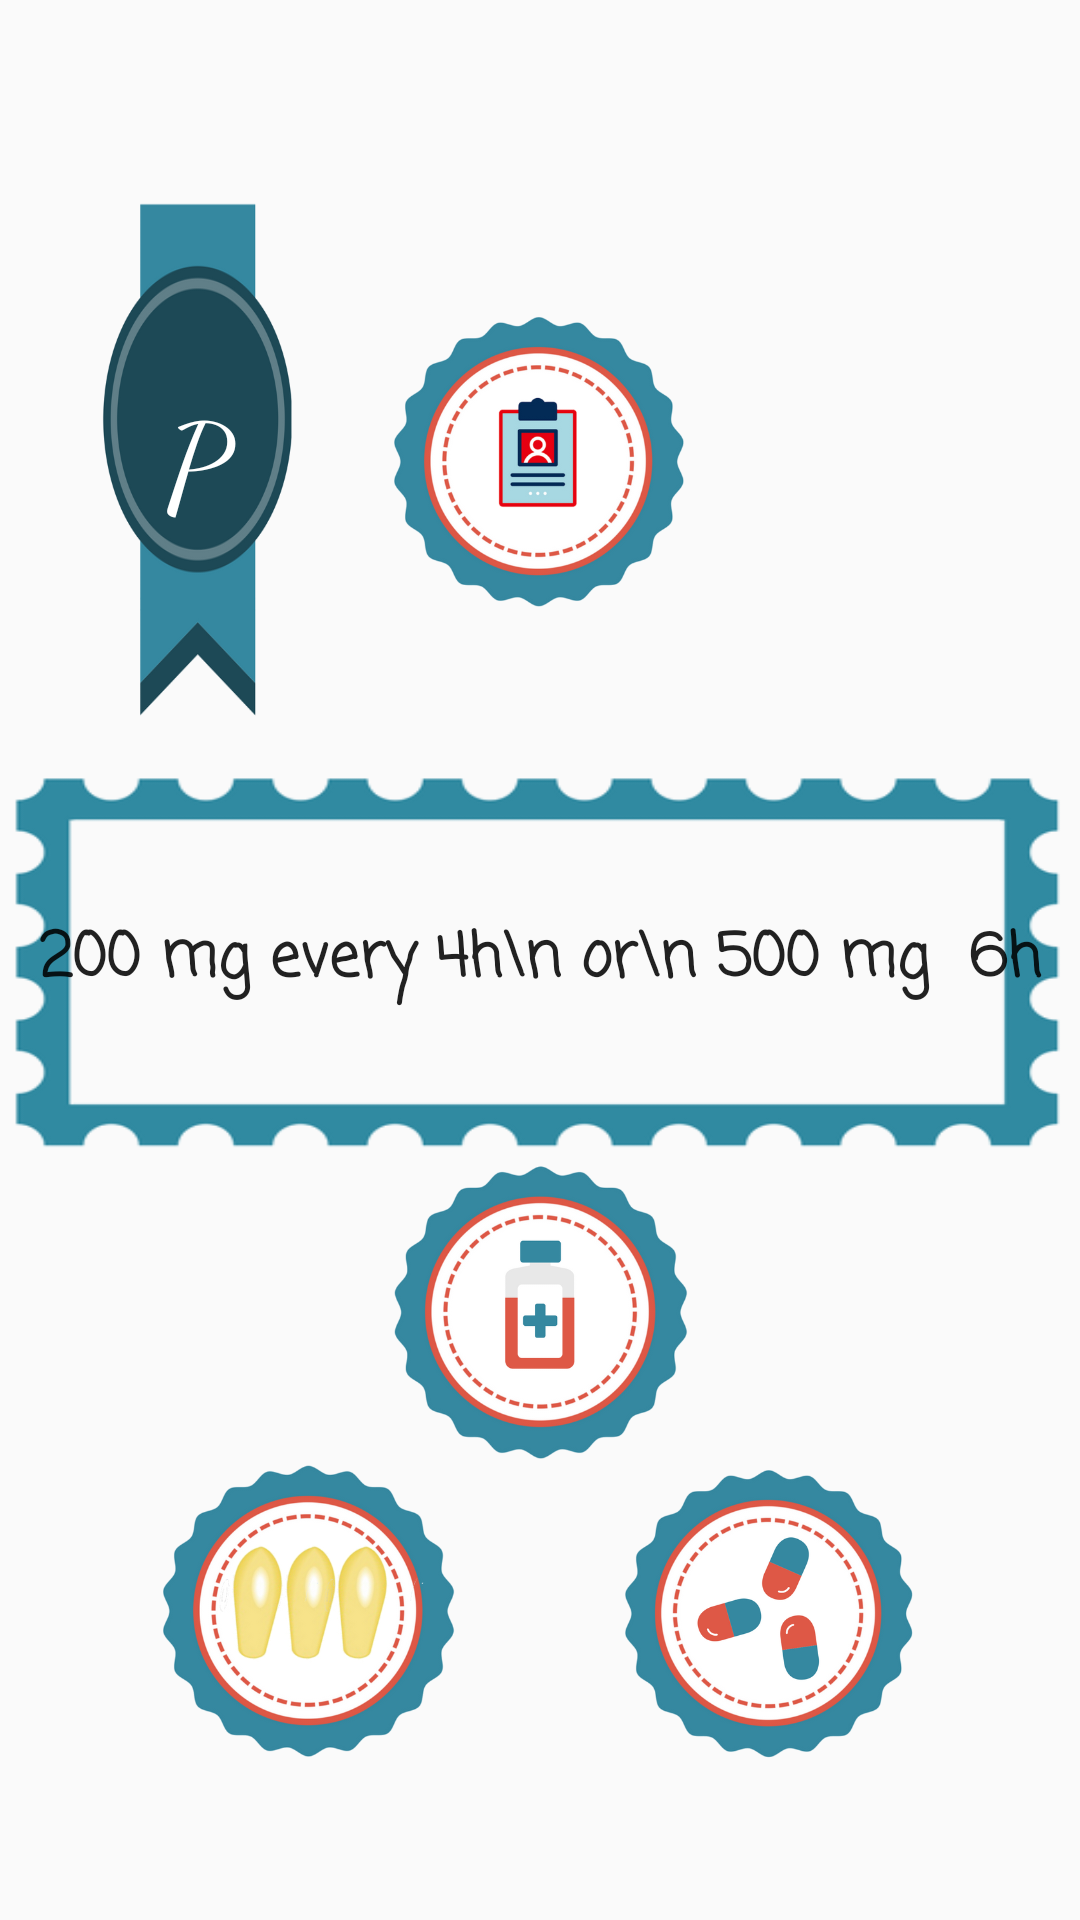

Locate icon controls on the screen. Image size 1080×1920, boxes as detection(x1, y1, x2, y2).
para syr: detection(394, 1166, 687, 1459)
para tabl: detection(625, 1470, 913, 1757)
parac czop: detection(163, 1465, 454, 1757)
